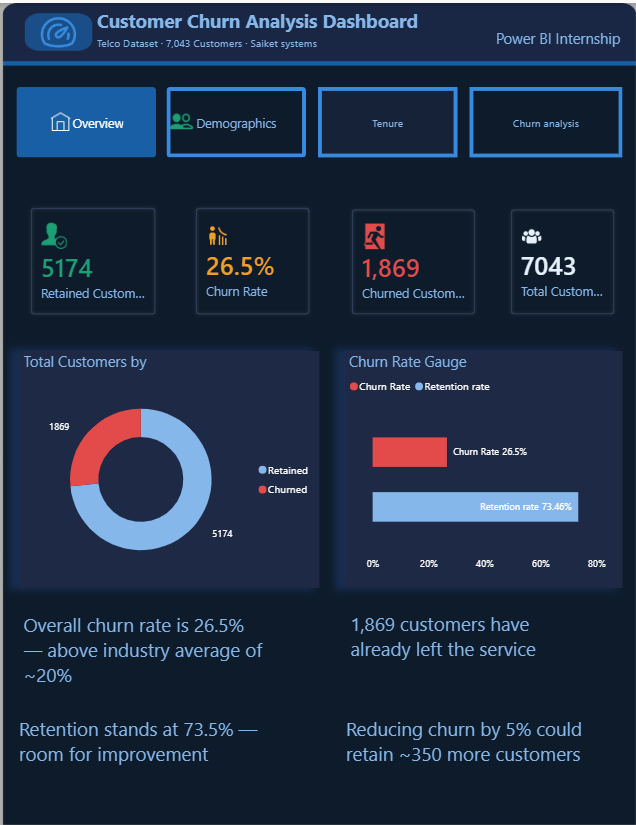

Layout of this report page (visuals, bound fields, positions):
{"tool":"powerbi","page":{"name":"Page 1","canvas":[816,1056],"ordinal":0},"visuals":[{"type":"clusteredBarChart","title":"Churn Rate Gauge","fields":{"Y":["Telco_Customer_Churn_Dataset  (.Churn Rate","Telco_Customer_Churn_Dataset  (.C retention rate"]},"box":[441.1,444.9,354.8,303],"z":0},{"type":"donutChart","fields":{"Y":["Telco_Customer_Churn_Dataset  (.Total Customers"],"Category":["Telco_Customer_Churn_Dataset  (.Churn Label"]},"box":[24.9,444.9,383.5,303],"z":1000},{"type":"cardVisual","fields":{"Data":["Telco_Customer_Churn_Dataset  (.Churned Customers"]},"box":[425.7,239.7,205.2,182.2],"z":2000},{"type":"cardVisual","fields":{"Data":["Telco_Customer_Churn_Dataset  (.Total Customers"]},"box":[629,239.7,180.3,182.2],"z":3000},{"type":"cardVisual","fields":{"Data":["Telco_Customer_Churn_Dataset  (.Churn Rate"]},"box":[226.3,237.8,193.7,184.1],"z":4000},{"type":"cardVisual","fields":{"Data":["Telco_Customer_Churn_Dataset  (.Retained Customers"]},"box":[15.3,237.8,207.1,184.1],"z":5000},{"type":"textbox","box":[25.3,772.6,319.1,112.9],"z":6000},{"type":"textbox","box":[442.3,771.5,317.6,113],"z":7000},{"type":"textbox","box":[19.5,906,325.4,115],"z":8000},{"type":"textbox","box":[436.4,906,325.4,109.1],"z":9000},{"type":"textbox","box":[118.9,0,512,53.7],"z":10000,"group":"g2"},{"type":"textbox","box":[118.9,36.4,301.1,34.5],"z":11000,"group":"g2"},{"type":"actionButton","title":"Page 1","box":[20.6,107.4,178.3,90.1],"z":11000,"group":"g1"},{"type":"image","box":[15,11,118.9,52],"z":12000,"group":"g2"},{"type":"actionButton","title":"Page 2","box":[212.4,107.4,178.3,90.1],"z":12000,"group":"g1"},{"type":"textbox","box":[629,26.8,187.9,53.7],"z":13000,"group":"g2"},{"type":"actionButton","title":"Page 3","box":[406.1,107.4,178.3,90.1],"z":13000,"group":"g1"},{"type":"group","id":"g1","title":"Group 1","box":[20.6,107.4,774.8,90.1],"z":14000,"group":"g2"},{"type":"actionButton","title":"Page 3","box":[599.7,107.4,195.6,90.1],"z":14000,"group":"g1"},{"type":"group","id":"g2","title":"Header page 1","box":[15,0,801.9,197.5],"z":14001}]}

Visuals, with their boxes in screenshot pixels (x1, y1, x2, y2), scaled from the page's 816x1056 canvas onto the 636x825 screenshot:
"Churn Rate Gauge" clusteredBarChart: locate(344, 348, 620, 584)
donutChart - Telco_Customer_Churn_Dataset  (.Total Customers x Telco_Customer_Churn_Dataset  (.Churn Label: locate(19, 348, 318, 584)
cardVisual - Telco_Customer_Churn_Dataset  (.Churned Customers: locate(332, 187, 492, 330)
cardVisual - Telco_Customer_Churn_Dataset  (.Total Customers: locate(490, 187, 631, 330)
cardVisual - Telco_Customer_Churn_Dataset  (.Churn Rate: locate(176, 186, 327, 330)
cardVisual - Telco_Customer_Churn_Dataset  (.Retained Customers: locate(12, 186, 173, 330)
textbox: locate(20, 604, 268, 692)
textbox: locate(345, 603, 592, 691)
textbox: locate(15, 708, 269, 798)
textbox: locate(340, 708, 594, 793)
textbox: locate(93, 0, 492, 42)
textbox: locate(93, 28, 327, 55)
"Page 1" actionButton: locate(16, 84, 155, 154)
image: locate(12, 9, 104, 49)
"Page 2" actionButton: locate(166, 84, 305, 154)
textbox: locate(490, 21, 635, 63)
"Page 3" actionButton: locate(317, 84, 455, 154)
"Group 1" group: locate(16, 84, 620, 154)
"Page 3" actionButton: locate(467, 84, 620, 154)
"Header page 1" group: locate(12, 0, 635, 154)
